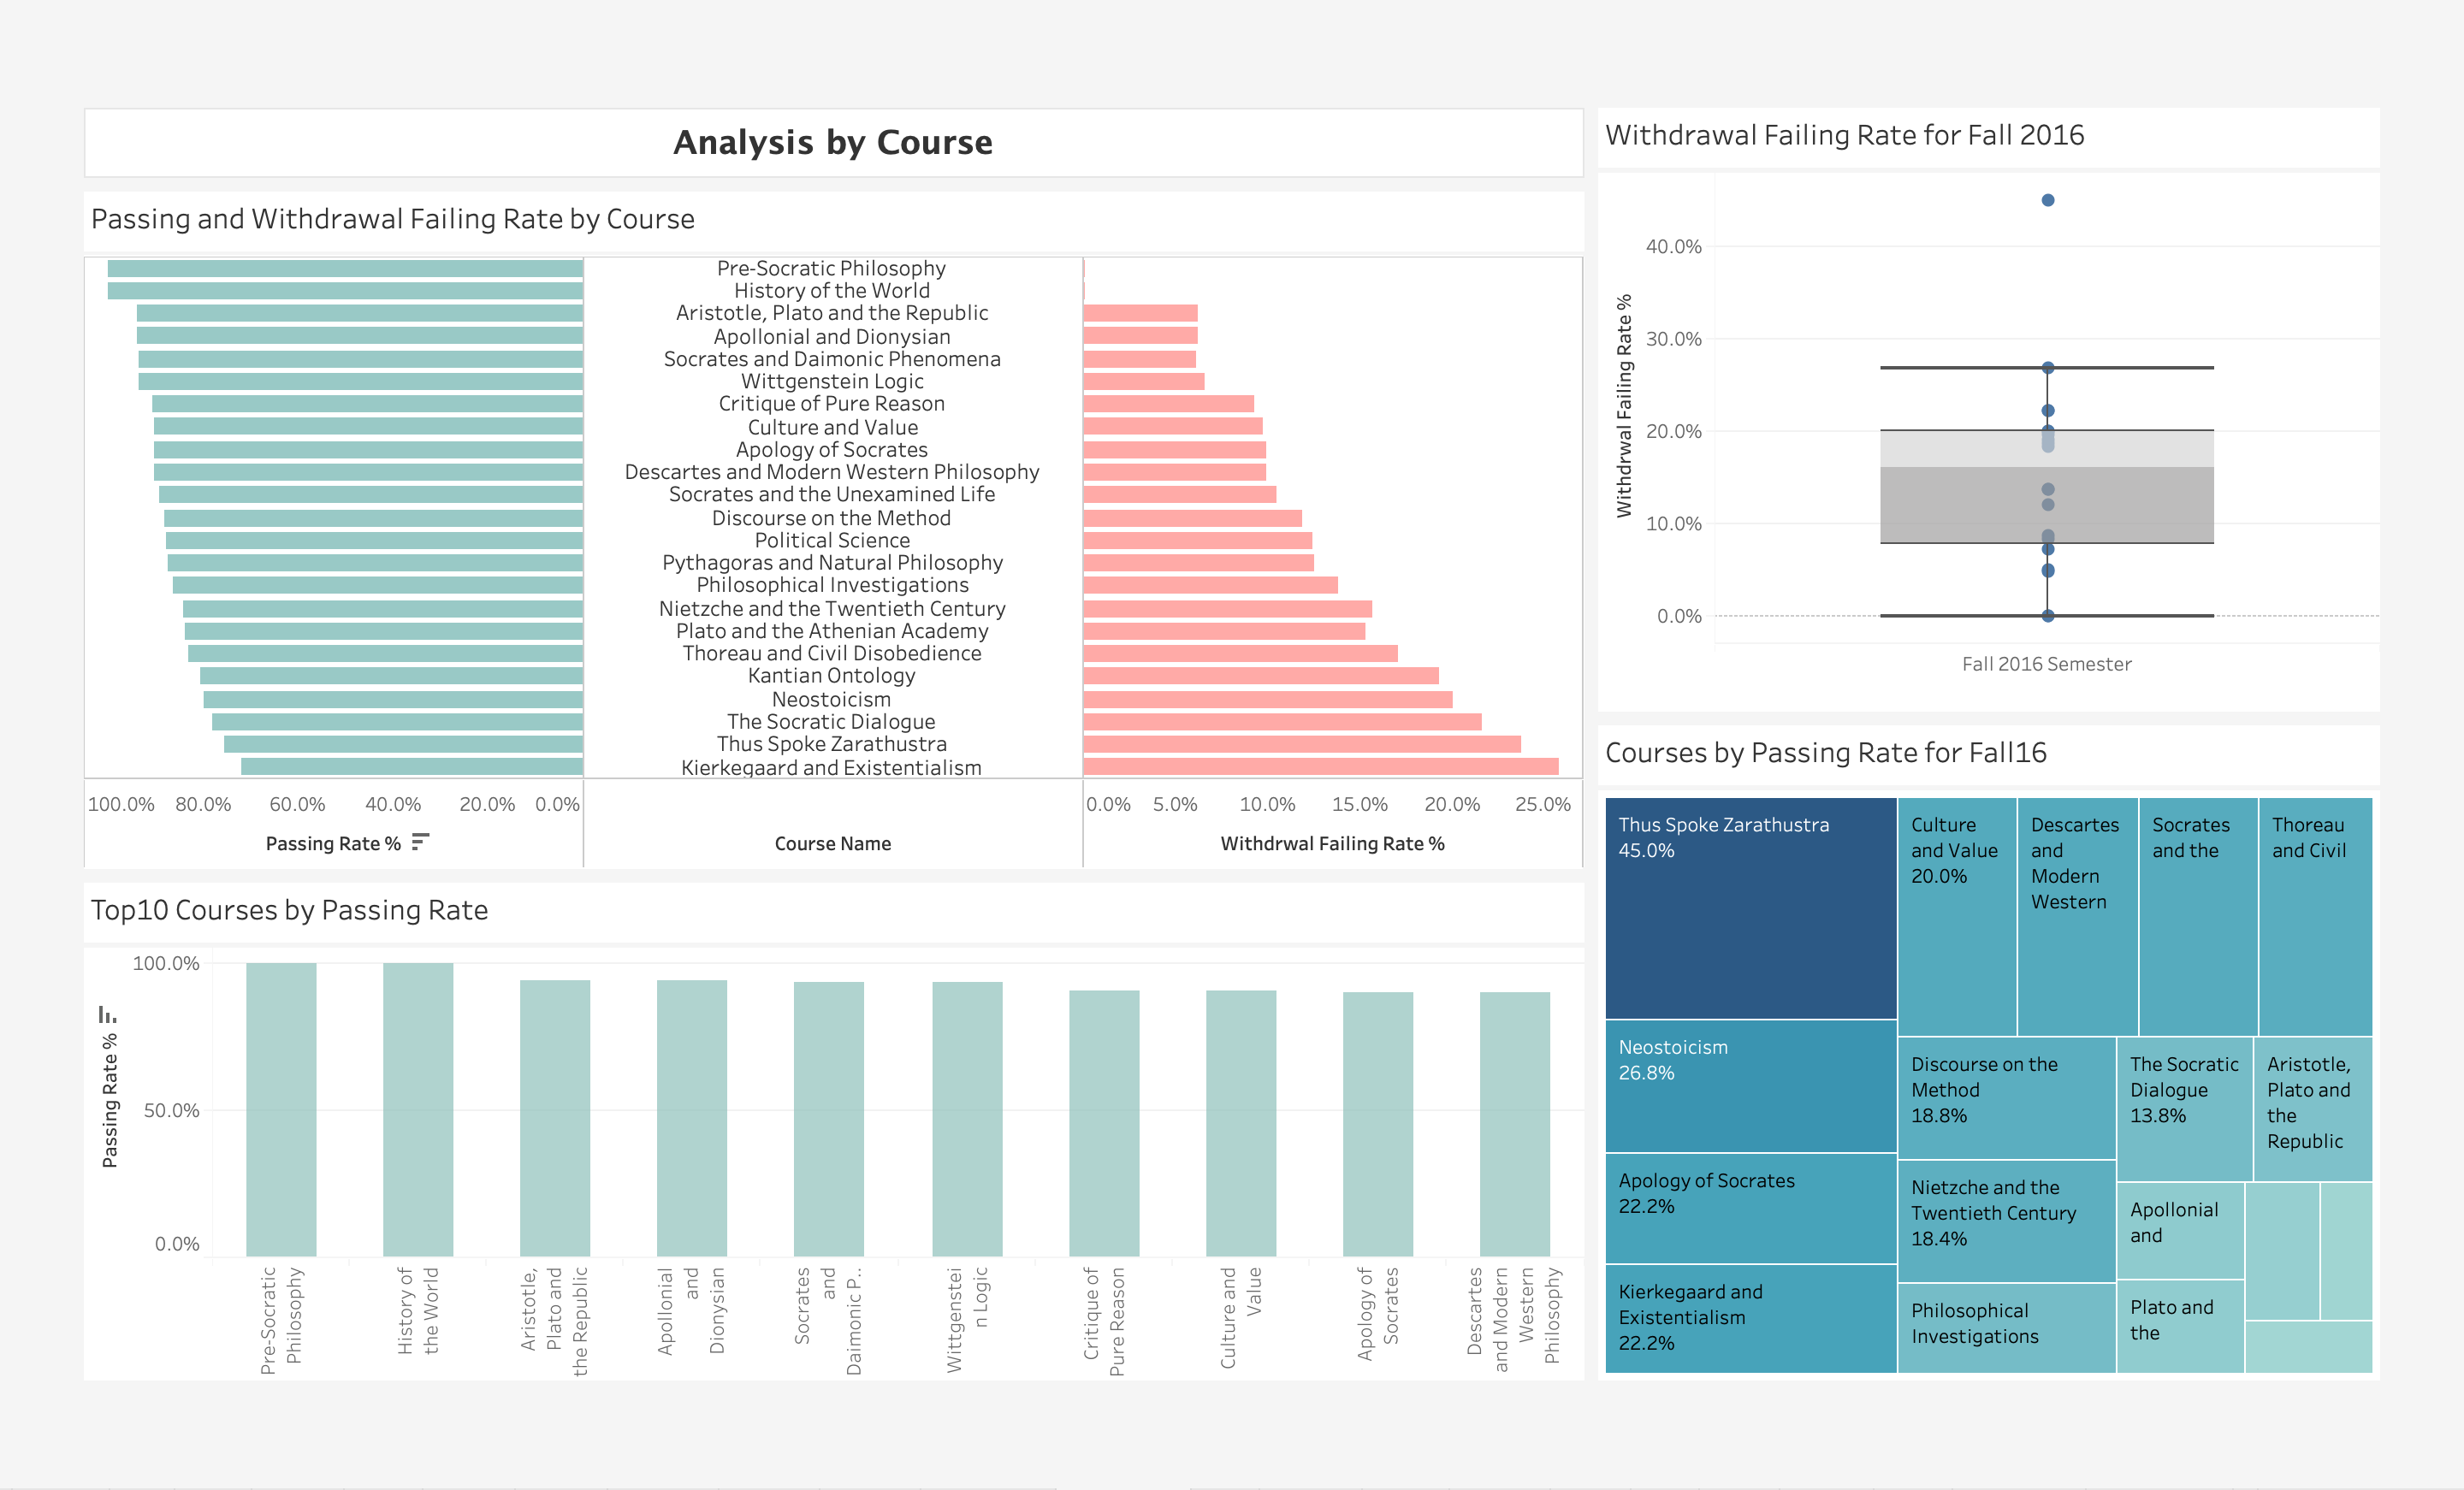

This screenshot's page, from the dashboard's own definition file:
{"tool":"tableau","page":{"name":"DB 3","canvas":[1366,768],"ordinal":2},"visuals":[{"type":"worksheet","box":[0,0,1366,768]},{"type":"worksheet","param":"horz","box":[8,8,1350,752]},{"type":"worksheet","box":[8,8,1350,752]},{"type":"worksheet","param":"horz","box":[8,8,885,752]},{"type":"worksheet","box":[8,8,885,752]},{"type":"worksheet","param":"horz","box":[8,8,885,752]},{"type":"worksheet","box":[8,8,885,752]},{"type":"worksheet","param":"horz","box":[8,8,885,453]},{"type":"worksheet","box":[8,8,885,453]},{"type":"worksheet","param":"vert","box":[8,8,885,453]},{"type":"worksheet","param":"horz","box":[8,8,885,49]},{"type":"worksheet","param":"vert","box":[8,8,885,49]},{"type":"worksheet","box":[8,8,885,49]},{"type":"worksheet","title":"With","mark":"Circle","rows":["Calculation_2351723474303668228"],"cols":["Term"],"box":[893,8,465,361]},{"type":"worksheet","title":"Pass C","mark":"Automatic","rows":["CourseName"],"cols":["Calculation_2351723474301095939","Calculation_2351723474274295809","Calculation_2351723474303668228"],"box":[8,57,885,403.9]},{"type":"worksheet","param":"vert","box":[893,369,465,391]},{"type":"worksheet","title":"With2","mark":"Automatic","box":[893,369,465,391]},{"type":"worksheet","title":"Pass C2","mark":"Automatic","rows":["Calculation_2351723474301095939"],"cols":["CourseName"],"box":[8,461,885,299]}]}

Visuals, with their boxes on the page's 1366x768 design canvas (x1, y1, x2, y2). These are canvas units, not pixel positions in the 2464x1490 screenshot, which may show the page scaled, cropped or inside an application window:
worksheet: {"left": 0, "top": 0, "right": 1366, "bottom": 768}
worksheet: {"left": 8, "top": 8, "right": 1358, "bottom": 760}
worksheet: {"left": 8, "top": 8, "right": 1358, "bottom": 760}
worksheet: {"left": 8, "top": 8, "right": 893, "bottom": 760}
worksheet: {"left": 8, "top": 8, "right": 893, "bottom": 760}
worksheet: {"left": 8, "top": 8, "right": 893, "bottom": 760}
worksheet: {"left": 8, "top": 8, "right": 893, "bottom": 760}
worksheet: {"left": 8, "top": 8, "right": 893, "bottom": 461}
worksheet: {"left": 8, "top": 8, "right": 893, "bottom": 461}
worksheet: {"left": 8, "top": 8, "right": 893, "bottom": 461}
worksheet: {"left": 8, "top": 8, "right": 893, "bottom": 57}
worksheet: {"left": 8, "top": 8, "right": 893, "bottom": 57}
worksheet: {"left": 8, "top": 8, "right": 893, "bottom": 57}
"With" worksheet (Circle marks): {"left": 893, "top": 8, "right": 1358, "bottom": 369}
"Pass C" worksheet: {"left": 8, "top": 57, "right": 893, "bottom": 461}
worksheet: {"left": 893, "top": 369, "right": 1358, "bottom": 760}
"With2" worksheet: {"left": 893, "top": 369, "right": 1358, "bottom": 760}
"Pass C2" worksheet: {"left": 8, "top": 461, "right": 893, "bottom": 760}
